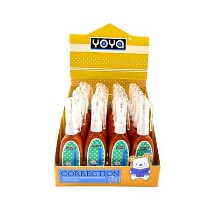book: (51, 22, 163, 189)
correction_fluid: (57, 96, 86, 184), (106, 94, 131, 184), (130, 98, 156, 184), (83, 94, 107, 185)
